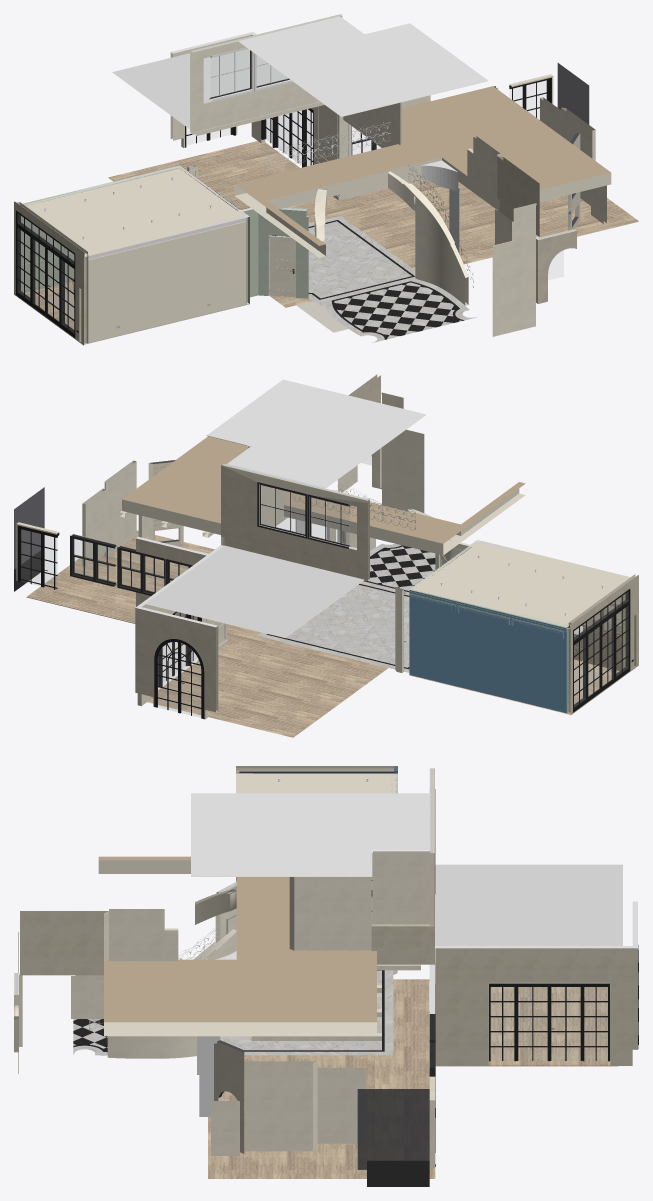
File: dining-room-3f11e86f8939.glb
3 renders of one model, top to bottom at view 1: azimuth 30°, elevation 25°; view 2: azimuth 150°, elevation 25°; view 3: azimuth 270°, elevation 25°, orthographic. The views are drawn at different scales.
Parts seen in each view (by area): view 1: dining-room-look-2575515a05775d9e, dining-room-look-9d91b47435c6fb33, dining-room-look-3b0077416469e01b, dining-room-d999b7e09afcf2f4, dining-room-2575515a05775d9e, dining-room-look-4a969f5cc1ae3dfe, dining-room-look-245f595ae2832e16, dining-room-look-e388ad8855329420, dining-room-look-6ea1225136f14ed6, dining-room-look-d5a4a1b5d3594c04, dining-room-look-8c6a7019fd0063e7, dining-room-701dbbc71a4c8bc6 (+41 smaller); view 2: dining-room-look-3b0077416469e01b, dining-room-b19b106fc304963c, dining-room-look-9d91b47435c6fb33, dining-room-look-2575515a05775d9e, dining-room-look-4a969f5cc1ae3dfe, dining-room-2575515a05775d9e, dining-room-look-245f595ae2832e16, dining-room-look-6ea1225136f14ed6, dining-room-look-969b861f9850351e, dining-room-look-d5a4a1b5d3594c04, dining-room-look-cdd3b97a7e9637be, dining-room-look-e388ad8855329420 (+26 smaller); view 3: dining-room-look-2575515a05775d9e, dining-room-look-3b0077416469e01b, dining-room-look-9d91b47435c6fb33, dining-room-look-4a969f5cc1ae3dfe, dining-room-look-e706aa16b4547c37, dining-room-look-5b6bbac285e58726, dining-room-look-69af8f587252f9fa, dining-room-look-62353aa10fc57f23, dining-room-look-cbd4bf73d9724a66, dining-room-look-32b959c9aa406288, dining-room-look-99336d62df756830, dining-room-2575515a05775d9e (+21 smaller).
Boxes of the visible parts, box(x1,y1,x2,y2) form: dining-room-look-2575515a05775d9e: box(234, 86, 611, 257); dining-room-look-9d91b47435c6fb33: box(238, 16, 487, 116); dining-room-look-3b0077416469e01b: box(108, 141, 638, 307); dining-room-d999b7e09afcf2f4: box(88, 216, 246, 342); dining-room-2575515a05775d9e: box(15, 166, 248, 256); dining-room-look-4a969f5cc1ae3dfe: box(112, 49, 288, 129); dining-room-look-245f595ae2832e16: box(190, 14, 342, 134); dining-room-look-e388ad8855329420: box(334, 282, 461, 339); dining-room-look-6ea1225136f14ed6: box(269, 221, 411, 298); dining-room-look-d5a4a1b5d3594c04: box(492, 235, 535, 336); dining-room-look-8c6a7019fd0063e7: box(388, 171, 468, 305); dining-room-701dbbc71a4c8bc6: box(16, 210, 75, 337); dining-room-look-3b0077416469e01b: box(26, 530, 387, 737); dining-room-b19b106fc304963c: box(409, 590, 567, 713); dining-room-look-9d91b47435c6fb33: box(206, 379, 425, 488); dining-room-look-2575515a05775d9e: box(122, 436, 525, 555); dining-room-look-4a969f5cc1ae3dfe: box(146, 545, 364, 637); dining-room-2575515a05775d9e: box(410, 541, 637, 628); dining-room-look-245f595ae2832e16: box(221, 464, 369, 580); dining-room-look-6ea1225136f14ed6: box(286, 584, 409, 667); dining-room-look-969b861f9850351e: box(135, 606, 218, 712); dining-room-look-d5a4a1b5d3594c04: box(382, 429, 424, 512); dining-room-look-cdd3b97a7e9637be: box(257, 482, 307, 538); dining-room-look-e388ad8855329420: box(368, 546, 435, 590); dining-room-look-2575515a05775d9e: box(98, 856, 376, 1036); dining-room-look-3b0077416469e01b: box(208, 979, 617, 1178); dining-room-look-9d91b47435c6fb33: box(191, 793, 429, 876); dining-room-look-4a969f5cc1ae3dfe: box(435, 864, 622, 945); dining-room-look-e706aa16b4547c37: box(435, 946, 632, 1065); dining-room-look-5b6bbac285e58726: box(245, 1061, 317, 1151); dining-room-look-69af8f587252f9fa: box(289, 877, 371, 950); dining-room-look-62353aa10fc57f23: box(20, 911, 108, 975); dining-room-look-cbd4bf73d9724a66: box(357, 1089, 429, 1169); dining-room-look-32b959c9aa406288: box(372, 851, 429, 924); dining-room-look-99336d62df756830: box(317, 1068, 365, 1143); dining-room-2575515a05775d9e: box(236, 766, 397, 793).
Size of the model in its own units: 20 by 6.36 by 16.79.
52 materials, 16 textured.
